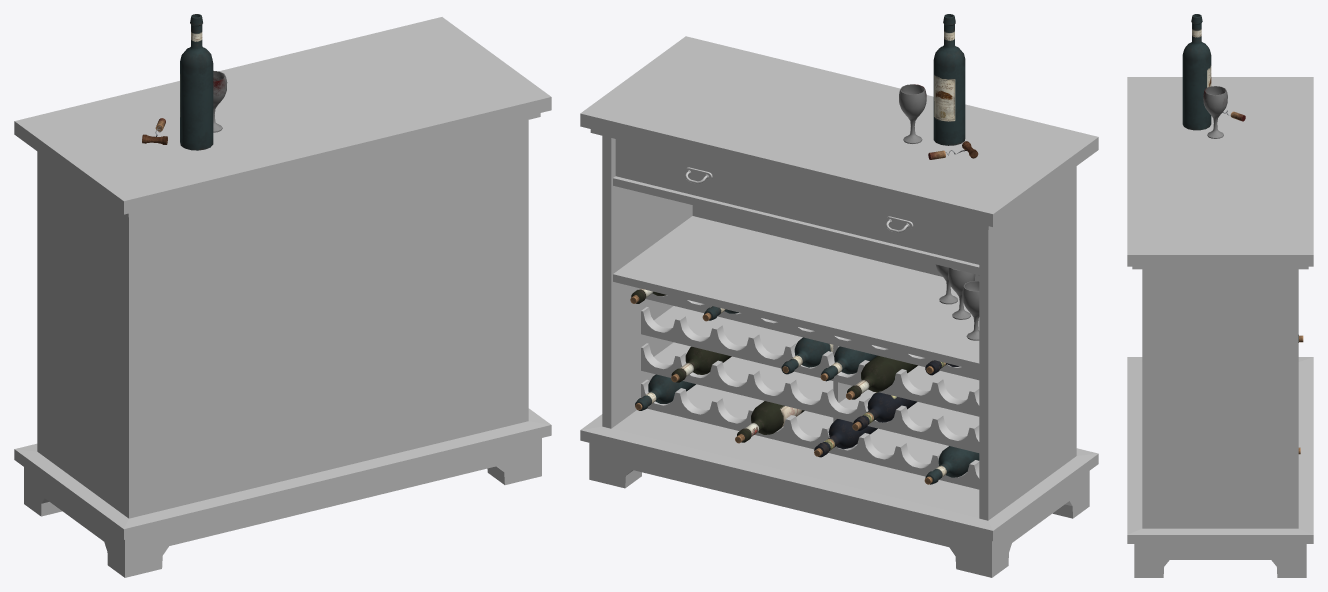
The model's file is WineCabinet.FBX.
The picture shows the model from 3 angles, left to right: view 1: azimuth 30°, elevation 25°; view 2: azimuth 150°, elevation 25°; view 3: azimuth 270°, elevation 25°; orthographic projection. The views are drawn at different scales.
Visible parts, largest first — view 1: WineCabinetMerge; view 2: WineCabinetMerge; view 3: WineCabinetMerge.
Part boxes in pixels (box(x1,y1,x2,y2)): WineCabinetMerge: box(14, 14, 551, 577); WineCabinetMerge: box(580, 14, 1098, 577); WineCabinetMerge: box(1127, 14, 1313, 577).
Size of the model in its own units: 147 by 167 by 65.07.
